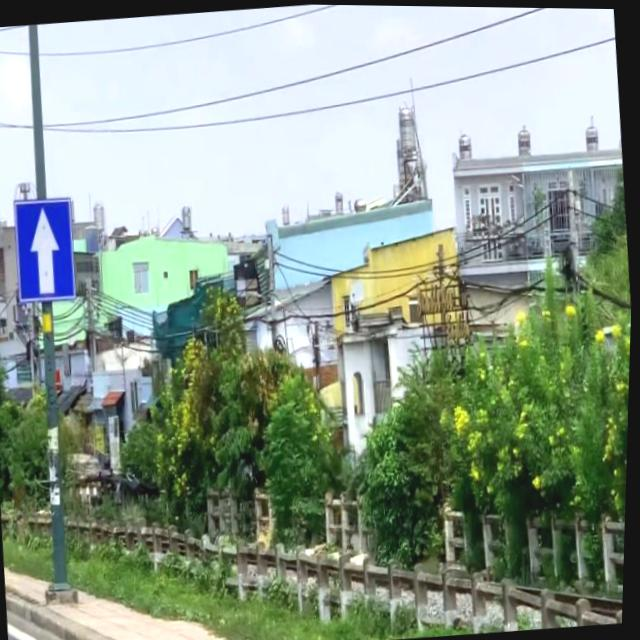Duong mot chieu: (10, 190, 82, 313)
